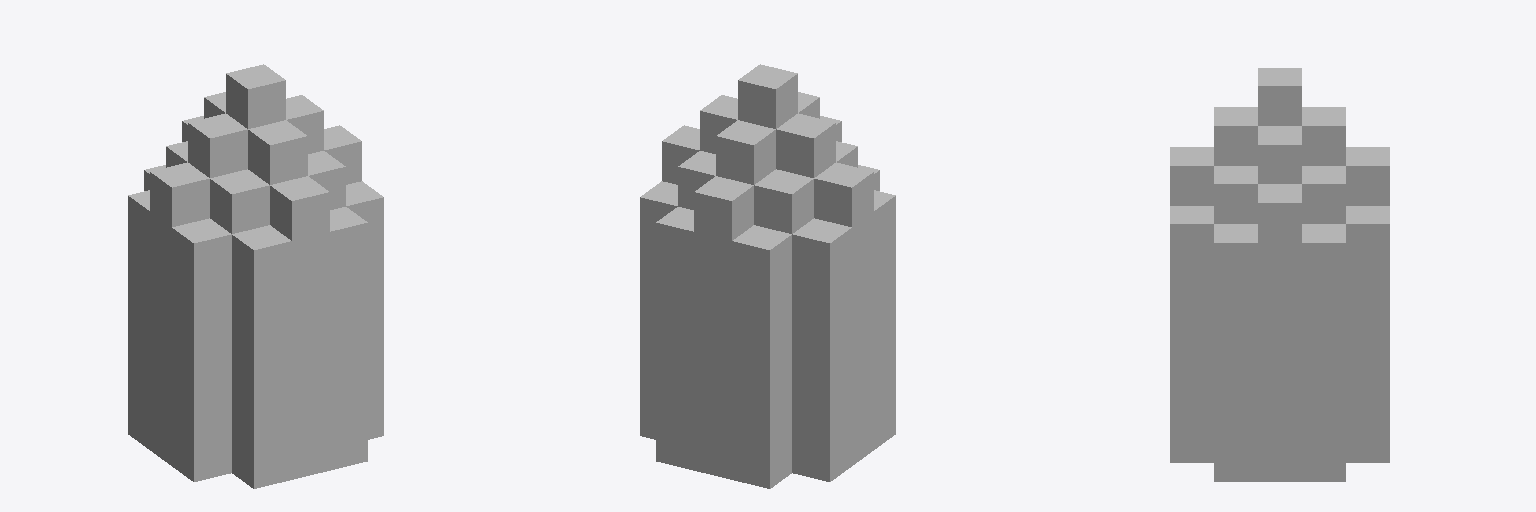
The model's file is bala.obj.
3 views of the same model, side by side, from view 1: azimuth 30°, elevation 25°; view 2: azimuth 150°, elevation 25°; view 3: azimuth 270°, elevation 25° (orthographic).
Visible parts, largest first — view 1: object 1; view 2: object 1; view 3: object 1.
Boxes of the visible parts, x1,y1,x2,y2 form: object 1: [128, 64, 383, 488]; object 1: [640, 64, 895, 488]; object 1: [1170, 68, 1389, 481].
Size of the model in its own units: 0.5 by 0.9 by 0.5.